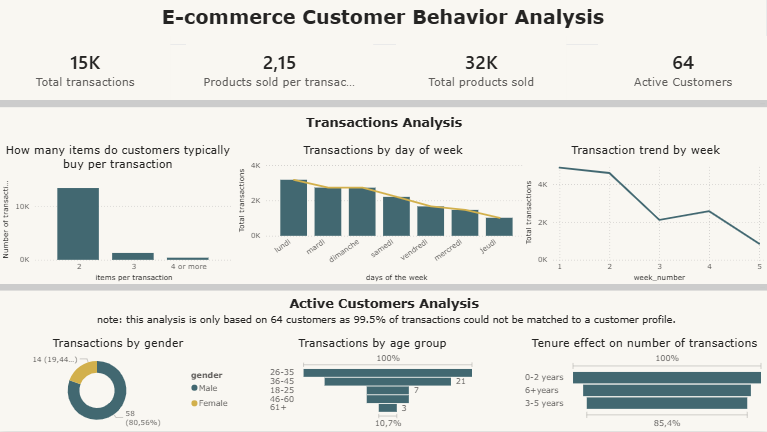

Layout of this report page (visuals, bound fields, positions):
{"tool":"powerbi","page":{"name":"Page 1","canvas":[1280,720],"ordinal":0},"visuals":[{"type":"textbox","box":[0,0,1280,76.7],"z":0},{"type":"cardVisual","fields":{"Data":["CountNonNull(Tableau3.customer_id)"]},"box":[1.7,61,284,108],"z":1000},{"type":"cardVisual","fields":{"Data":["Avg(Tableau3.basket_count)"]},"box":[311.7,61.7,350,106.7],"z":2000},{"type":"cardVisual","fields":{"Data":["Sum(Tableau3.basket_count)"]},"box":[661.7,61,284,108],"z":3000},{"type":"cardVisual","fields":{"Data":["Tableau2.Active Customers"]},"box":[997.7,61,284,108],"z":4000},{"type":"textbox","box":[1.7,169,1280,12],"z":5000},{"type":"textbox","box":[2,182,1280,72],"z":6000},{"type":"columnChart","title":"How many items do customers typically buy per transaction","fields":{"Category":["Tableau3.basket_category"],"Y":["CountNonNull(Tableau3.basket_category)"]},"box":[1.7,239.3,392.9,235.7],"z":7000},{"type":"lineStackedColumnComboChart","title":"Transactions by day of week","fields":{"Category":["Tableau3.day_of_week"],"Y":["CountNonNull(Tableau3.customer_id)"],"Y2":["CountNonNull(Tableau3.customer_id)"]},"box":[394.5,239.3,490,235.7],"z":8000},{"type":"lineChart","title":"Transaction trend by week","fields":{"Y":["CountNonNull(Tableau3.customer_id)"],"Category":["Tableau3.week_number"]},"box":[873.1,239.3,408.6,235.7],"z":9000},{"type":"textbox","box":[1.7,475,1280,11.4],"z":10000},{"type":"textbox","box":[2,486,1280,92],"z":11000},{"type":"donutChart","fields":{"Category":["Tableau3.sex"],"Y":["CountNonNull(Tableau3.customer_id)"]},"box":[1.7,561.7,393.3,158.3],"z":12000},{"type":"funnel","title":"Transactions by age group","fields":{"Category":["Tableau3.age_group"],"Y":["CountNonNull(Tableau3.customer_id)"]},"box":[446.7,561.7,351.7,158.3],"z":13000},{"type":"funnel","title":"Tenure effect on number of transactions","fields":{"Category":["Tableau3.tenure_by_year"],"Y":["Tableau3.Avg Transactions per Customer"]},"box":[871.7,561.7,408.3,158.3],"z":14000}]}

Visuals, with their boxes in screenshot pixels (x1, y1, x2, y2), scaled from the page's 1280x720 canvas onto the 767x432 screenshot:
textbox: crop(0, 0, 766, 46)
cardVisual - CountNonNull(Tableau3.customer_id): crop(1, 37, 171, 101)
cardVisual - Avg(Tableau3.basket_count): crop(187, 37, 397, 101)
cardVisual - Sum(Tableau3.basket_count): crop(397, 37, 567, 101)
cardVisual - Tableau2.Active Customers: crop(598, 37, 766, 101)
textbox: crop(1, 101, 766, 109)
textbox: crop(1, 109, 766, 152)
"How many items do customers typically buy per transaction" columnChart: crop(1, 144, 236, 285)
"Transactions by day of week" lineStackedColumnComboChart: crop(236, 144, 530, 285)
"Transaction trend by week" lineChart: crop(523, 144, 766, 285)
textbox: crop(1, 285, 766, 292)
textbox: crop(1, 292, 766, 347)
donutChart - Tableau3.sex x CountNonNull(Tableau3.customer_id): crop(1, 337, 237, 431)
"Transactions by age group" funnel: crop(268, 337, 478, 431)
"Tenure effect on number of transactions" funnel: crop(522, 337, 766, 431)
